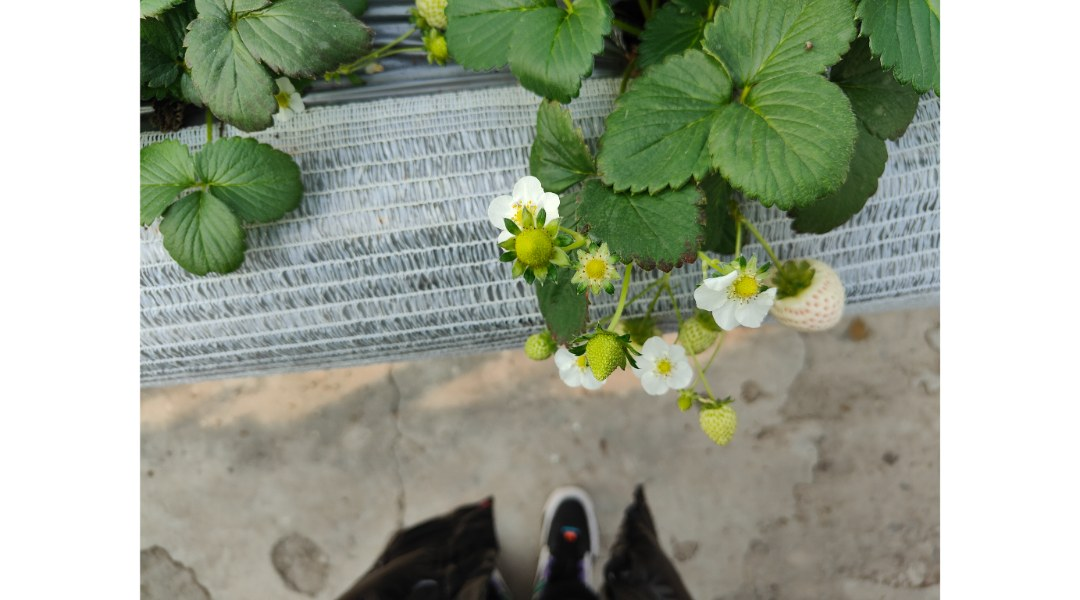berry: (777, 247, 864, 332), (500, 208, 563, 292), (700, 393, 736, 445)
flower: (478, 162, 573, 247), (695, 266, 780, 335), (633, 332, 696, 397), (552, 339, 611, 393), (572, 239, 621, 297)
strain: (613, 257, 636, 339), (742, 216, 779, 266)
